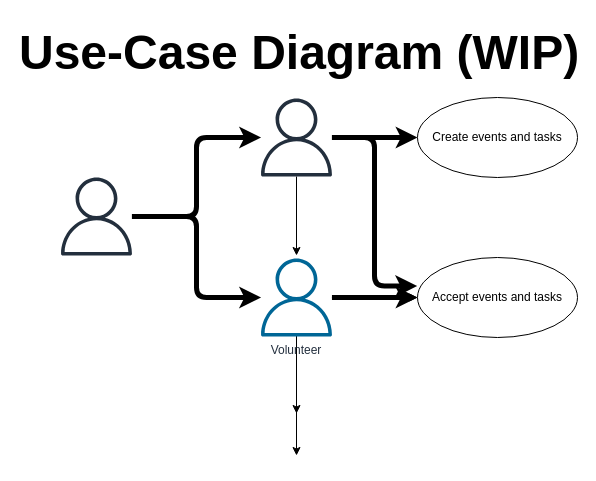
The diagram is 596 pixels wide and 481 high, and some of its shapes have lost their labels. Each missing label, with the box of its shape:
Admin: (257, 98, 335, 176)
User: (57, 177, 135, 255)
